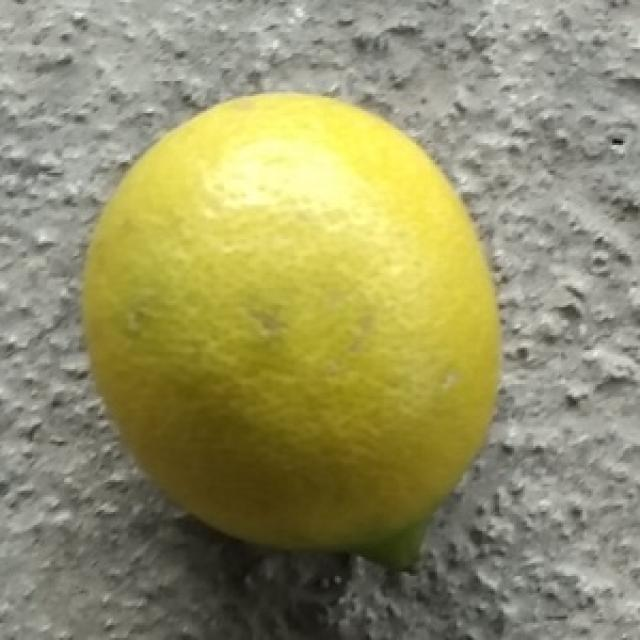Lemon: (78, 89, 503, 576)
